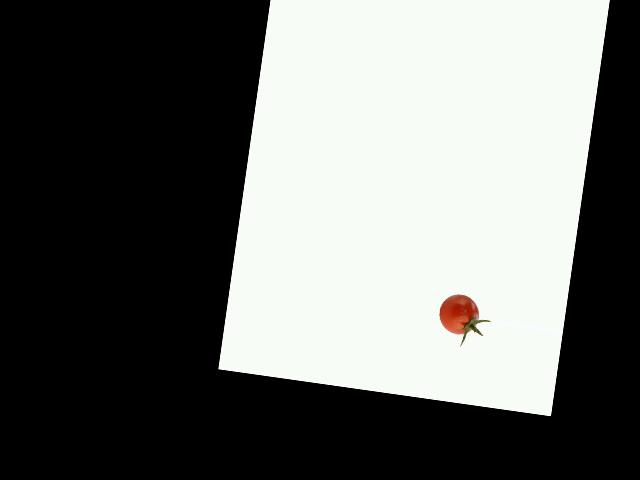tomato: (436, 291, 481, 336)
